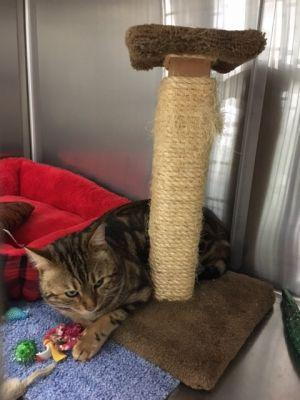bengal: (19, 217, 134, 319)
